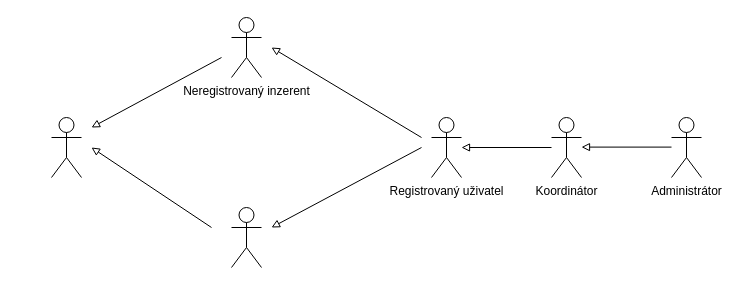
Some shapes in this 739 by 306 pixel diagram are drawn without their labels. The centre of each missing label's shape, as x and y in pixels:
"Anonymní uživatel" goes at pixel 66 147.
"Neregistrovaný respondent" goes at pixel 246 237.
